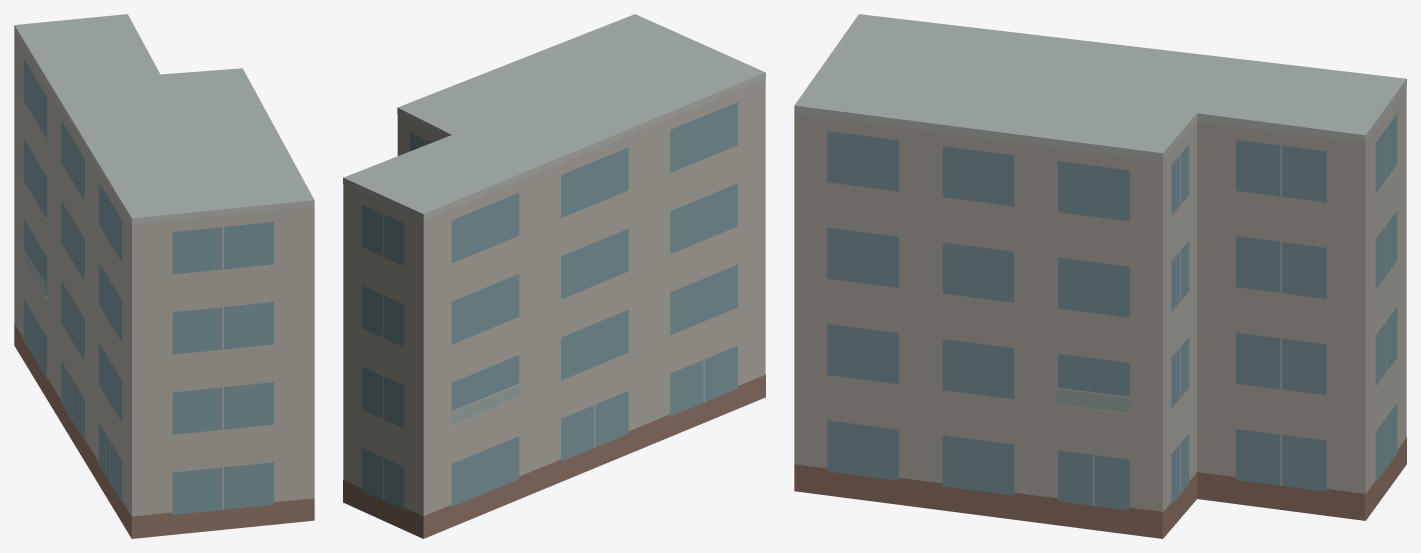
Rendered from survey-upis-32614283.glb.
3 renders of one model, left to right at view 1: azimuth 30°, elevation 25°; view 2: azimuth 150°, elevation 25°; view 3: azimuth 270°, elevation 25°, orthographic. The views are drawn at different scales.
Parts seen in each view (by area): view 1: survey-upis-32614283.tmp; view 2: survey-upis-32614283.tmp; view 3: survey-upis-32614283.tmp.
Boxes of the visible parts, x1,y1,x2,y2 form: survey-upis-32614283.tmp: [14, 14, 314, 538]; survey-upis-32614283.tmp: [343, 14, 765, 538]; survey-upis-32614283.tmp: [794, 14, 1406, 538].
Size of the model in its own units: 9.77 by 12.6 by 18.15.
